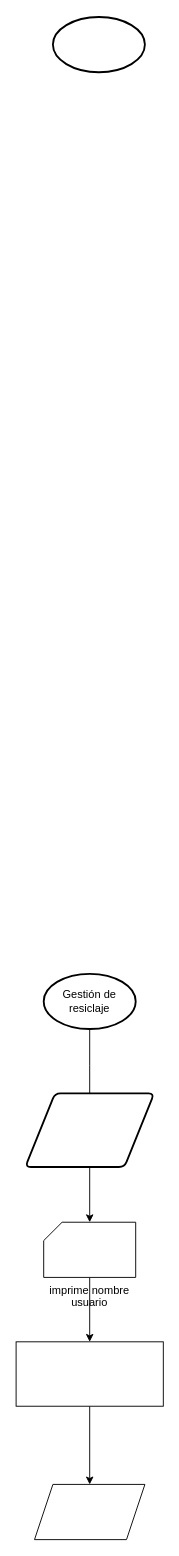
Some shapes in this 179 by 1556 pixel diagram are drawn without their labels. The centre of each missing label's shape, as x and y in pixels:
"ingrese el nombre del usuario" goes at point 89,1129.
"Inicia puntos usuario puntos = 0,contador usuariostotalUsuarios++" goes at point 89,1373.
